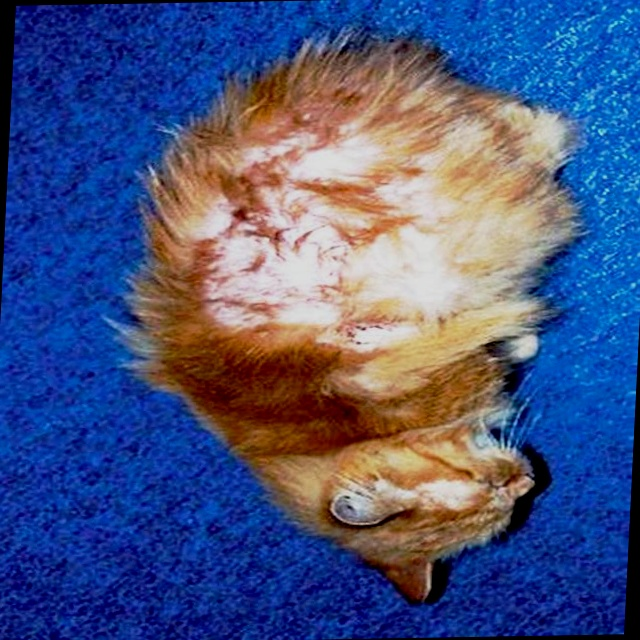hairloss: (202, 147, 447, 318)
